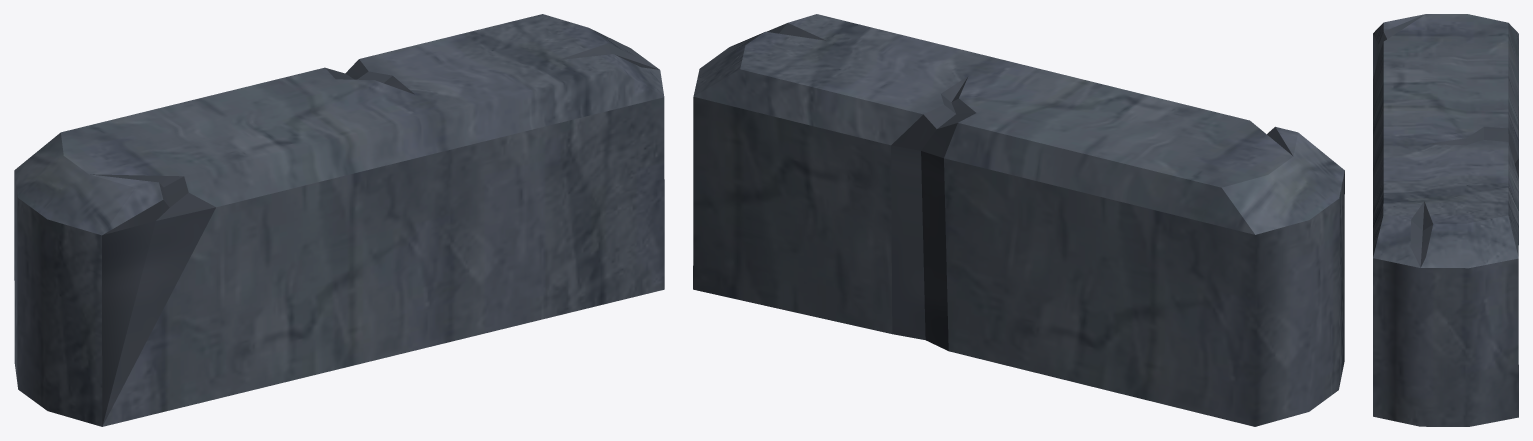
Rendered from pm-stand-alone-02.glb.
3 views of the same model, side by side, from view 1: azimuth 30°, elevation 25°; view 2: azimuth 150°, elevation 25°; view 3: azimuth 270°, elevation 25° (orthographic). The views are drawn at different scales.
Visible parts, largest first — view 1: StandAlone02; view 2: StandAlone02; view 3: StandAlone02.
Part boxes in pixels (bbox=[...]): StandAlone02: bbox=[14, 14, 664, 426]; StandAlone02: bbox=[693, 14, 1344, 426]; StandAlone02: bbox=[1373, 14, 1518, 426].
Size of what is drawn, in the model's own units: 10.22 by 3.61 by 2.56.
1 material, 1 textured.
